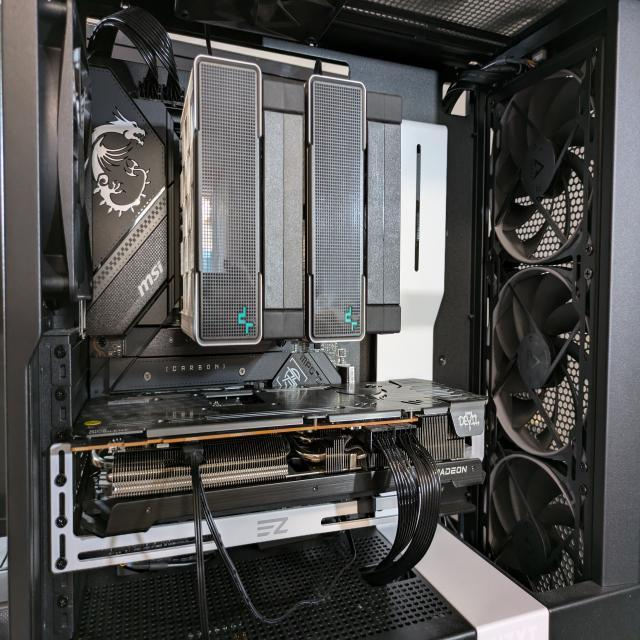CPU_Fan: (178, 55, 402, 348)
Mainboard: (90, 66, 362, 386)
